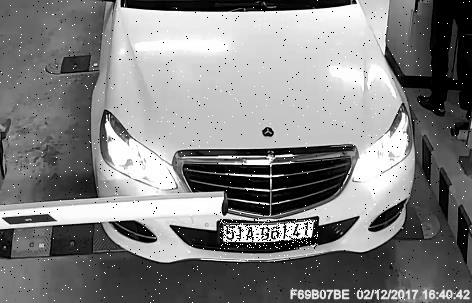License-plate: (221, 221, 319, 251)
